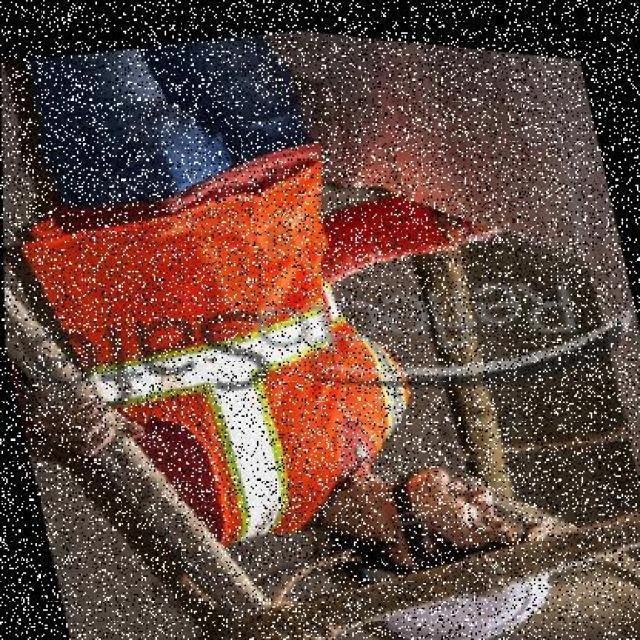vest: (9, 136, 446, 573)
